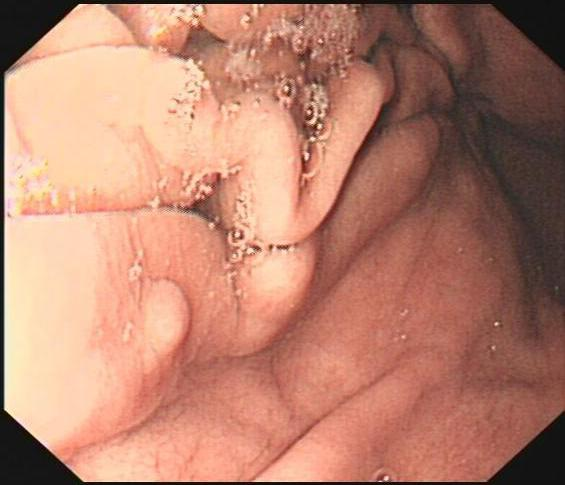Polyp: (132, 274, 198, 361)
